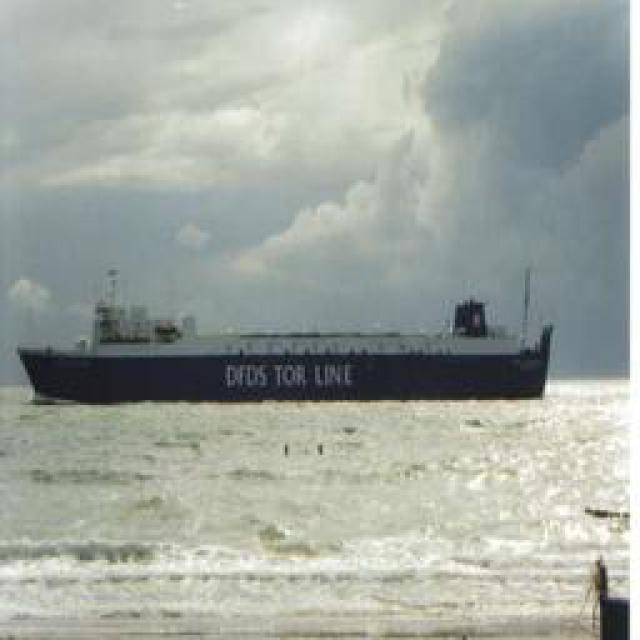Ship: (24, 263, 567, 405)
